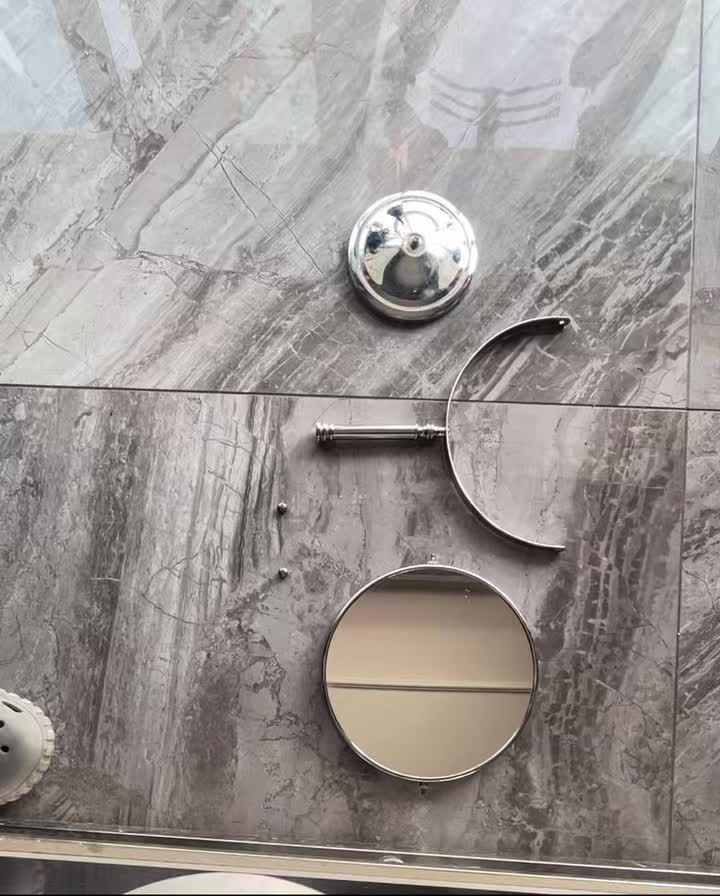base: (344, 181, 484, 322)
frame: (314, 312, 658, 546)
mirror: (311, 547, 549, 799)
screw: (270, 496, 296, 522), (275, 562, 296, 582)
